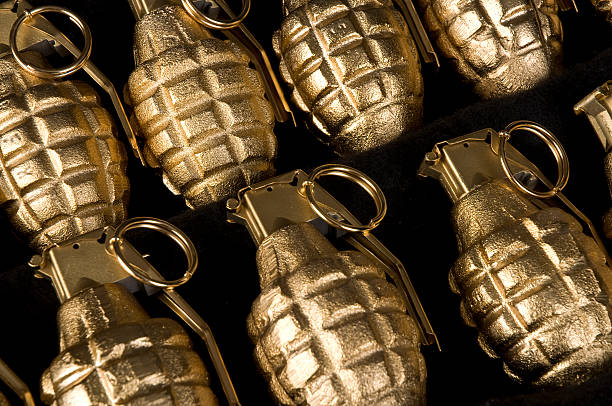e1: (233, 164, 440, 406), (423, 120, 612, 383), (3, 1, 144, 236)
